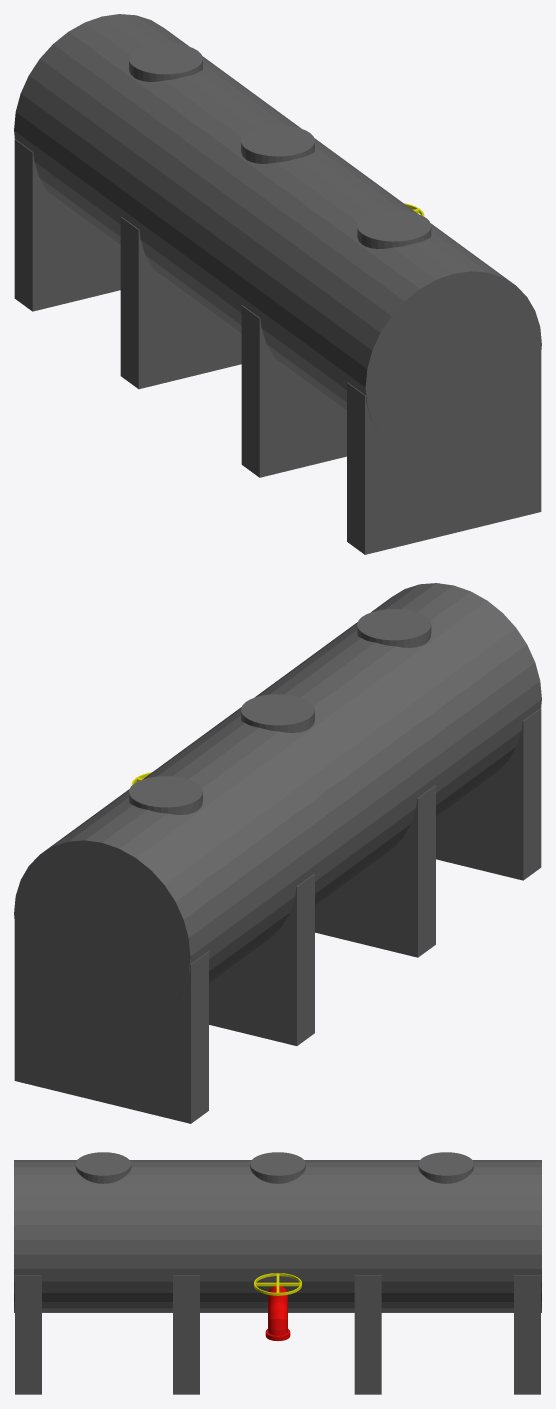
Rendered from Caixa.fbx.
The picture shows the model from 3 angles, top to bottom: view 1: azimuth 30°, elevation 25°; view 2: azimuth 150°, elevation 25°; view 3: azimuth 270°, elevation 25°; orthographic projection. The views are drawn at different scales.
Visible parts, largest first — view 1: Cylinder; view 2: Cylinder; view 3: Cylinder, Cylinder.001, Cylinder.002.
Part boxes in pixels (x1,y1,x2,y2): Cylinder: [14, 14, 541, 554]; Cylinder: [14, 583, 541, 1123]; Cylinder: [14, 1152, 541, 1394]; Cylinder.001: [265, 1286, 290, 1340]; Cylinder.002: [254, 1273, 301, 1295].
Bounding box in the file's own units: 285 × 286 × 690.
